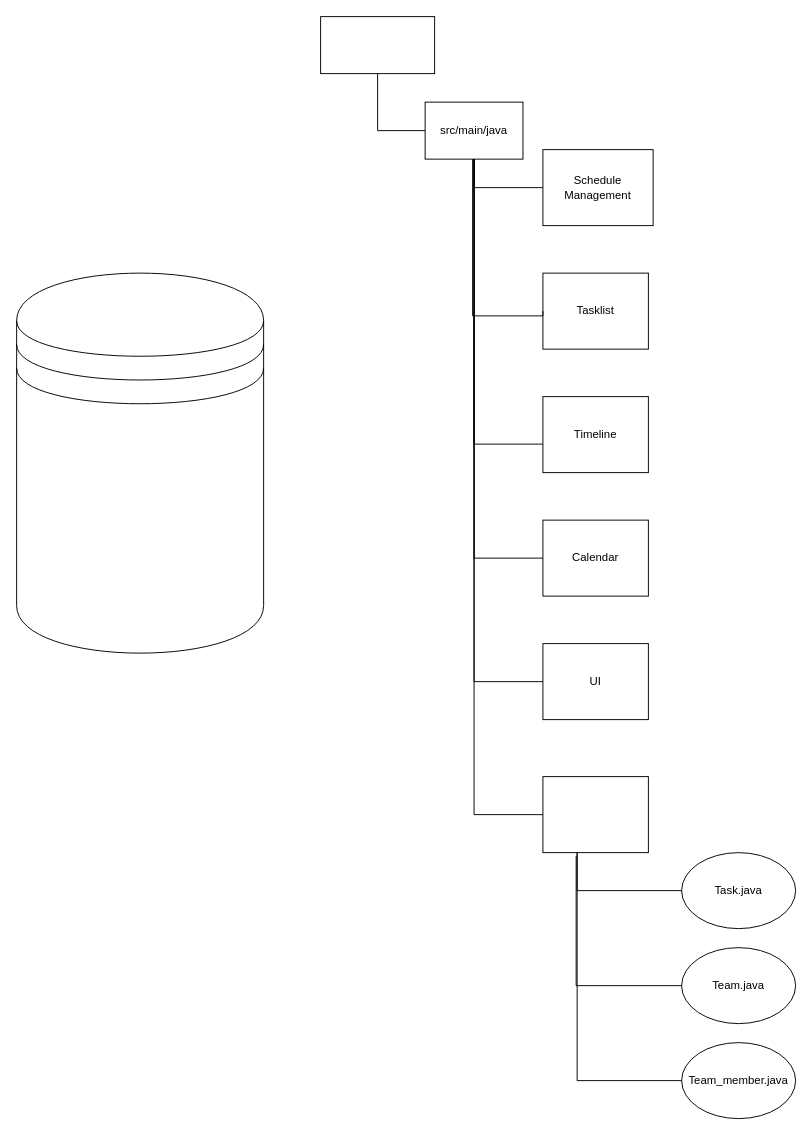
Some shapes in this 812 by 1135 pixel diagram are drawn without their labels. Here are the shapes that lost their labels. From the top down, the centre of each, then its label:
At (377,45): "PM Tool".
At (140,462): "Firebase remote DB".
At (595,814): "DataClass".
